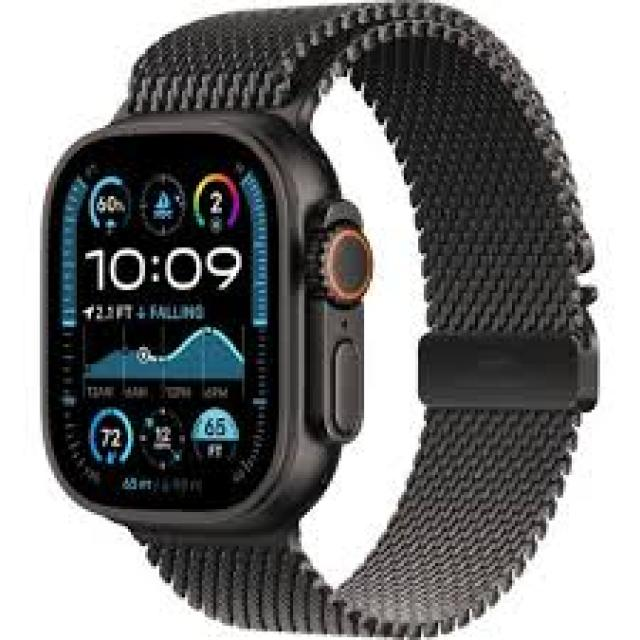objects: (41, 2, 594, 634)
